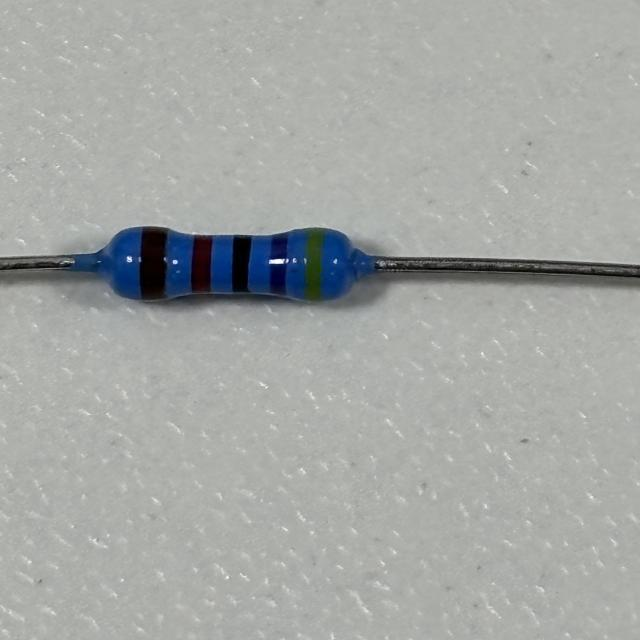resistor: (111, 223, 354, 308)
